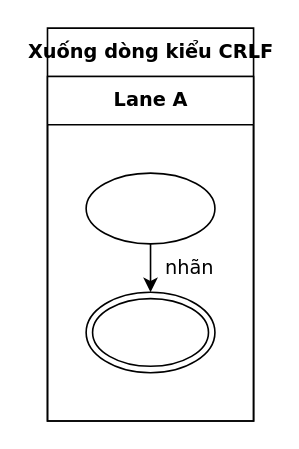
This 299x449 diagram has some shape labels left out. The shapes that lost their labels are listed below. From the top down, each one's centre as x and y in pixels, then its label:
At [150,207]: "Vào".
At [150,332]: "Xong".
